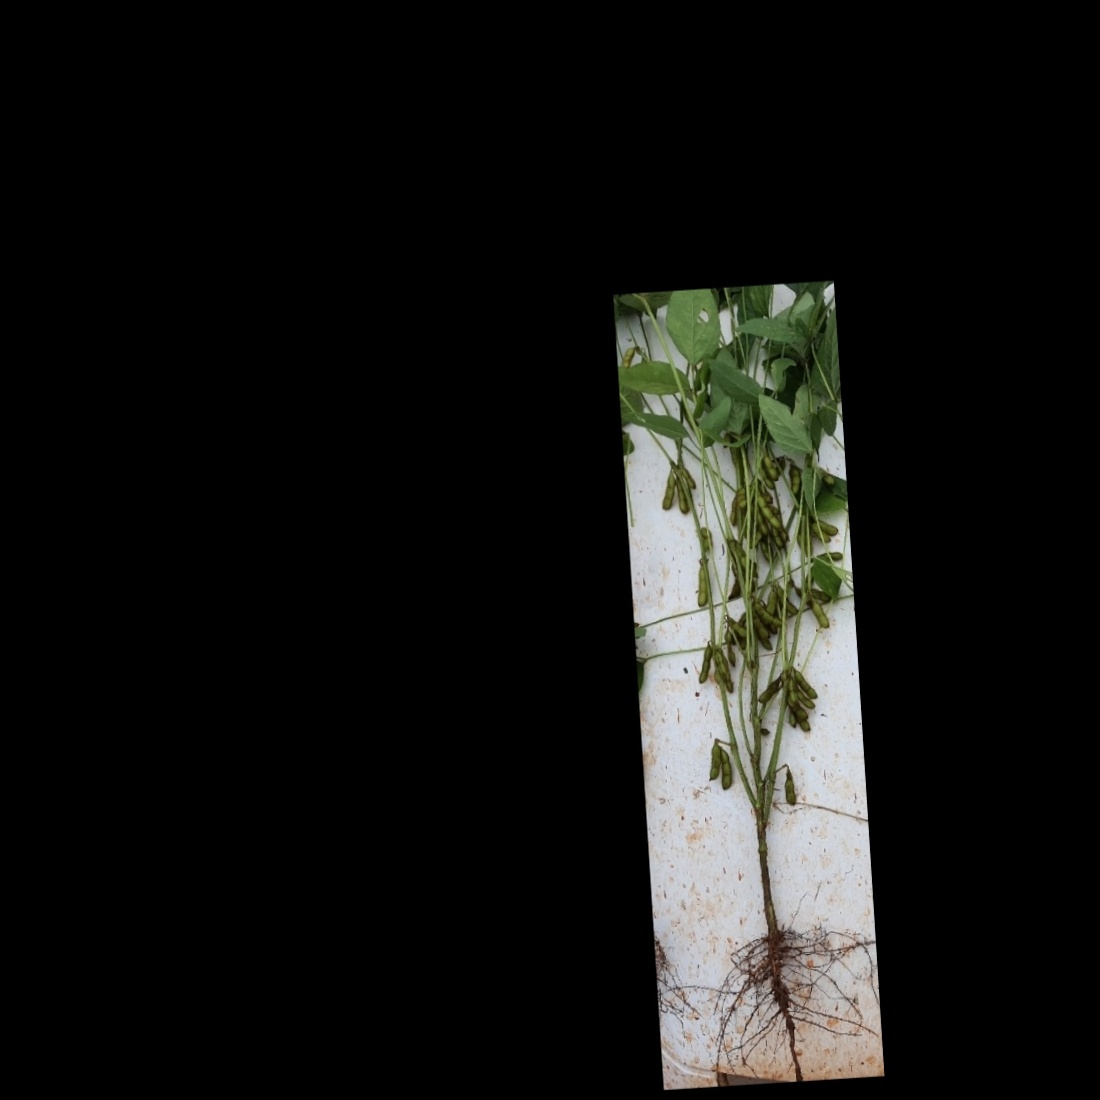pod: (753, 485, 785, 533), (786, 666, 822, 706), (687, 559, 712, 609), (748, 598, 788, 630), (752, 671, 786, 704), (694, 637, 716, 686), (788, 673, 816, 711), (655, 471, 678, 515), (716, 746, 736, 794), (780, 767, 802, 807), (700, 744, 724, 781), (810, 599, 834, 635), (760, 450, 780, 485)
soy: (617, 284, 874, 1061)
